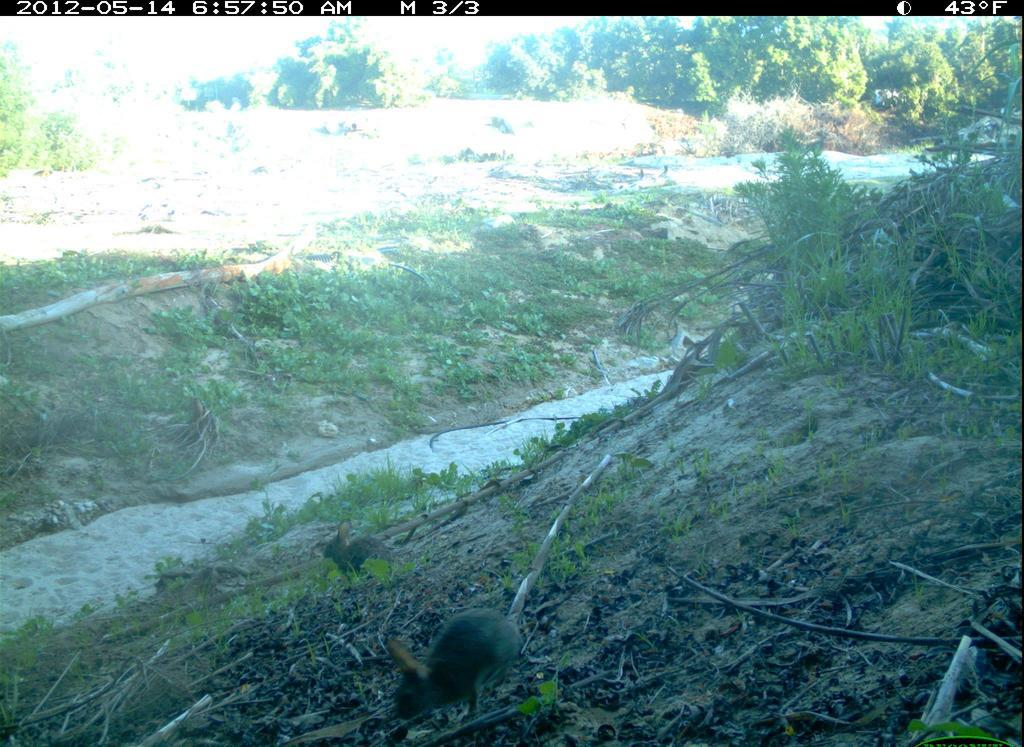rabbit: (370, 610, 545, 729), (320, 514, 409, 586)
